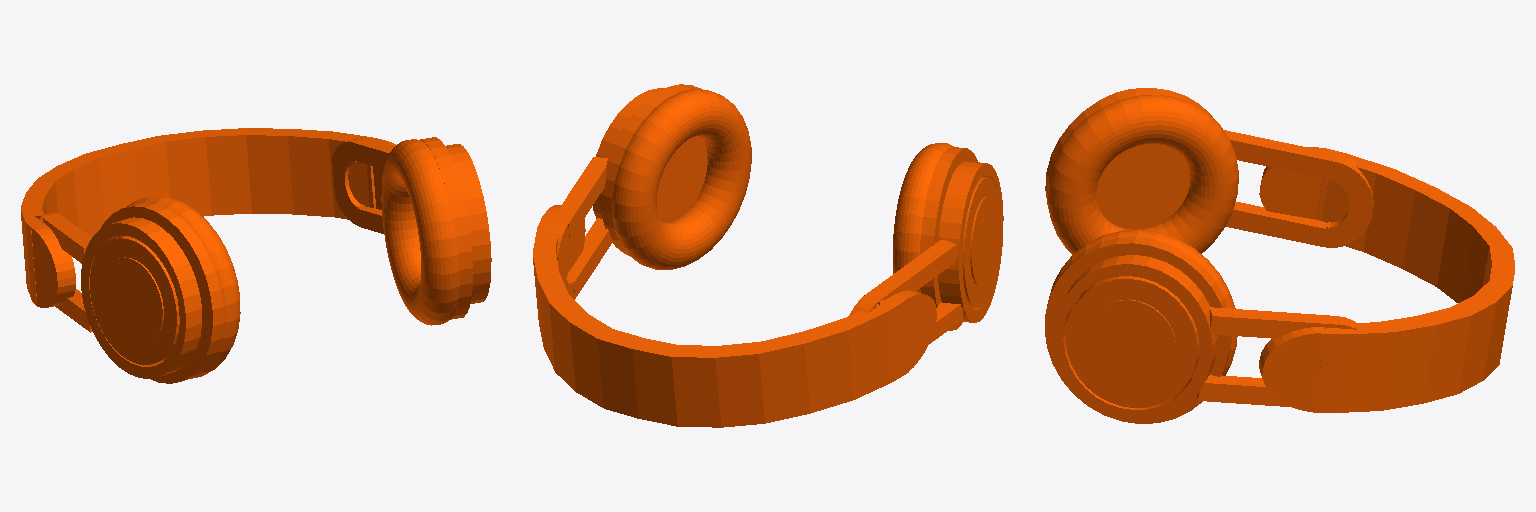
robot.urdf — headphones:
<?xml version="1.0" ?>
<robot name="headphones">
   <material name="obj_color">
      <color rgba="1.0 0.423529411765 0.0392156862745 1.0"/>
   </material>
   <link name="top">
      <inertial>
         <origin rpy="0.0003378720454747229 0.0004987597681954326 0.0007739980260525696" xyz="-0.0001483253366320643 -0.01591624487501701 -0.003539914106479477"/>
         <mass value="0.2123333162401231"/>
         <inertia ixx="0.0003379331246209512" ixy="1.111883228894279e-06" ixz="5.022535433867861e-06" iyy="0.0005054114322139833" iyz="4.226480603909611e-05" izz="0.0007672852828877906"/>
      </inertial>
      <visual>
         <origin rpy="0 0 0" xyz="0 0 0"/>
         <geometry>
            <mesh filename="top_watertight_tiny.stl" scale="1 1 1"/>
         </geometry>
         <material name="obj_color"/>
      </visual>
      <collision>
         <origin rpy="0 0 0" xyz="0 0 0"/>
         <geometry>
            <mesh filename="top_watertight_tiny.obj" scale="1 1 1"/>
         </geometry>
      </collision>
   </link>
   <link name="bottom">
      <inertial>
         <origin rpy="1.633333333194242e-08 1.633333333194243e-08 1.633333333357667e-08" xyz="0.3464080000000008 0.3464080000000008 0.3464080000000008"/>
         <mass value="0.0009800000000000017"/>
         <inertia ixx="1.633333333248717e-08" ixy="5.447480642029219e-19" ixz="5.447480642029219e-19" iyy="1.633333333248717e-08" iyz="5.447480642029219e-19" izz="1.633333333248717e-08"/>
      </inertial>
      <visual>
         <origin rpy="0 0 0" xyz="0 0 0"/>
         <geometry>
            <mesh filename="bottom_watertight_tiny.stl" scale="1 1 1"/>
         </geometry>
         <material name="obj_color"/>
      </visual>
   </link>
   <joint name="rotation" type="revolute">
      <origin xyz="0 0 0"/>
      <axis xyz="0 0 -1"/>
      <parent link="bottom"/>
      <child link="top"/>
      <dynamics damping="1.0" friction="1.0"/>
      <limit effort="0.1" velocity="0.1" lower="0" upper="0.001"/>
   </joint>
</robot>

--- Facts derived from the render (not from the file) ---
3 views of the same robot in one strip: view 1: azimuth 30°, elevation 25°; view 2: azimuth 150°, elevation 25°; view 3: azimuth 270°, elevation 25° (orthographic).
Robot: headphones — 2 links, 1 joints (1 revolute); root link bottom; default pose: all joints at 0.
Visible links, largest first — view 1: top; view 2: top; view 3: top.
Link boxes in pixels (x1,y1,x2,y2): top: (21,128,491,383); top: (533,84,1003,427); top: (1045,88,1514,423).
Size in the robot's own frame: 0.1262 by 0.1315 by 0.0579 metres.
1 mesh visuals loaded from 2 distinct referenced files (1 binary STL); not drawn: 1 (reference not matched to a file when rendering).
